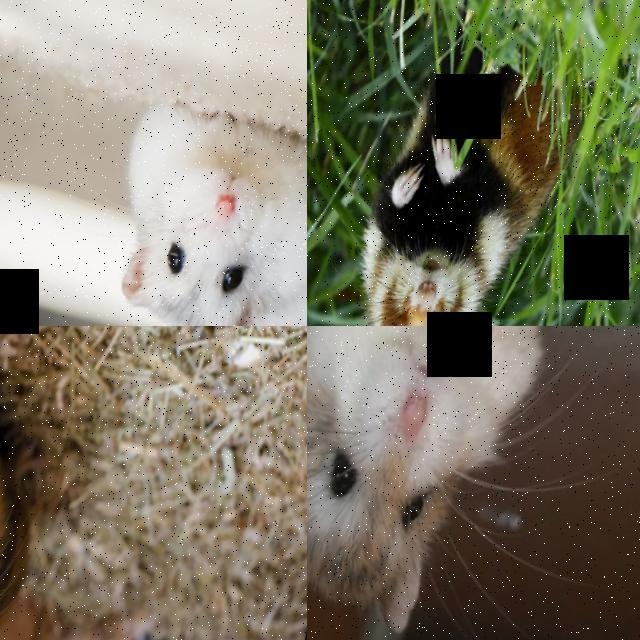hamster: (307, 326, 597, 640), (312, 28, 596, 326), (87, 98, 307, 326), (0, 326, 93, 640)
